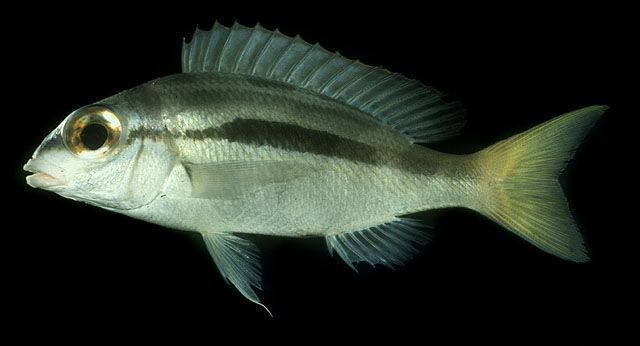fish: (23, 20, 609, 319)
